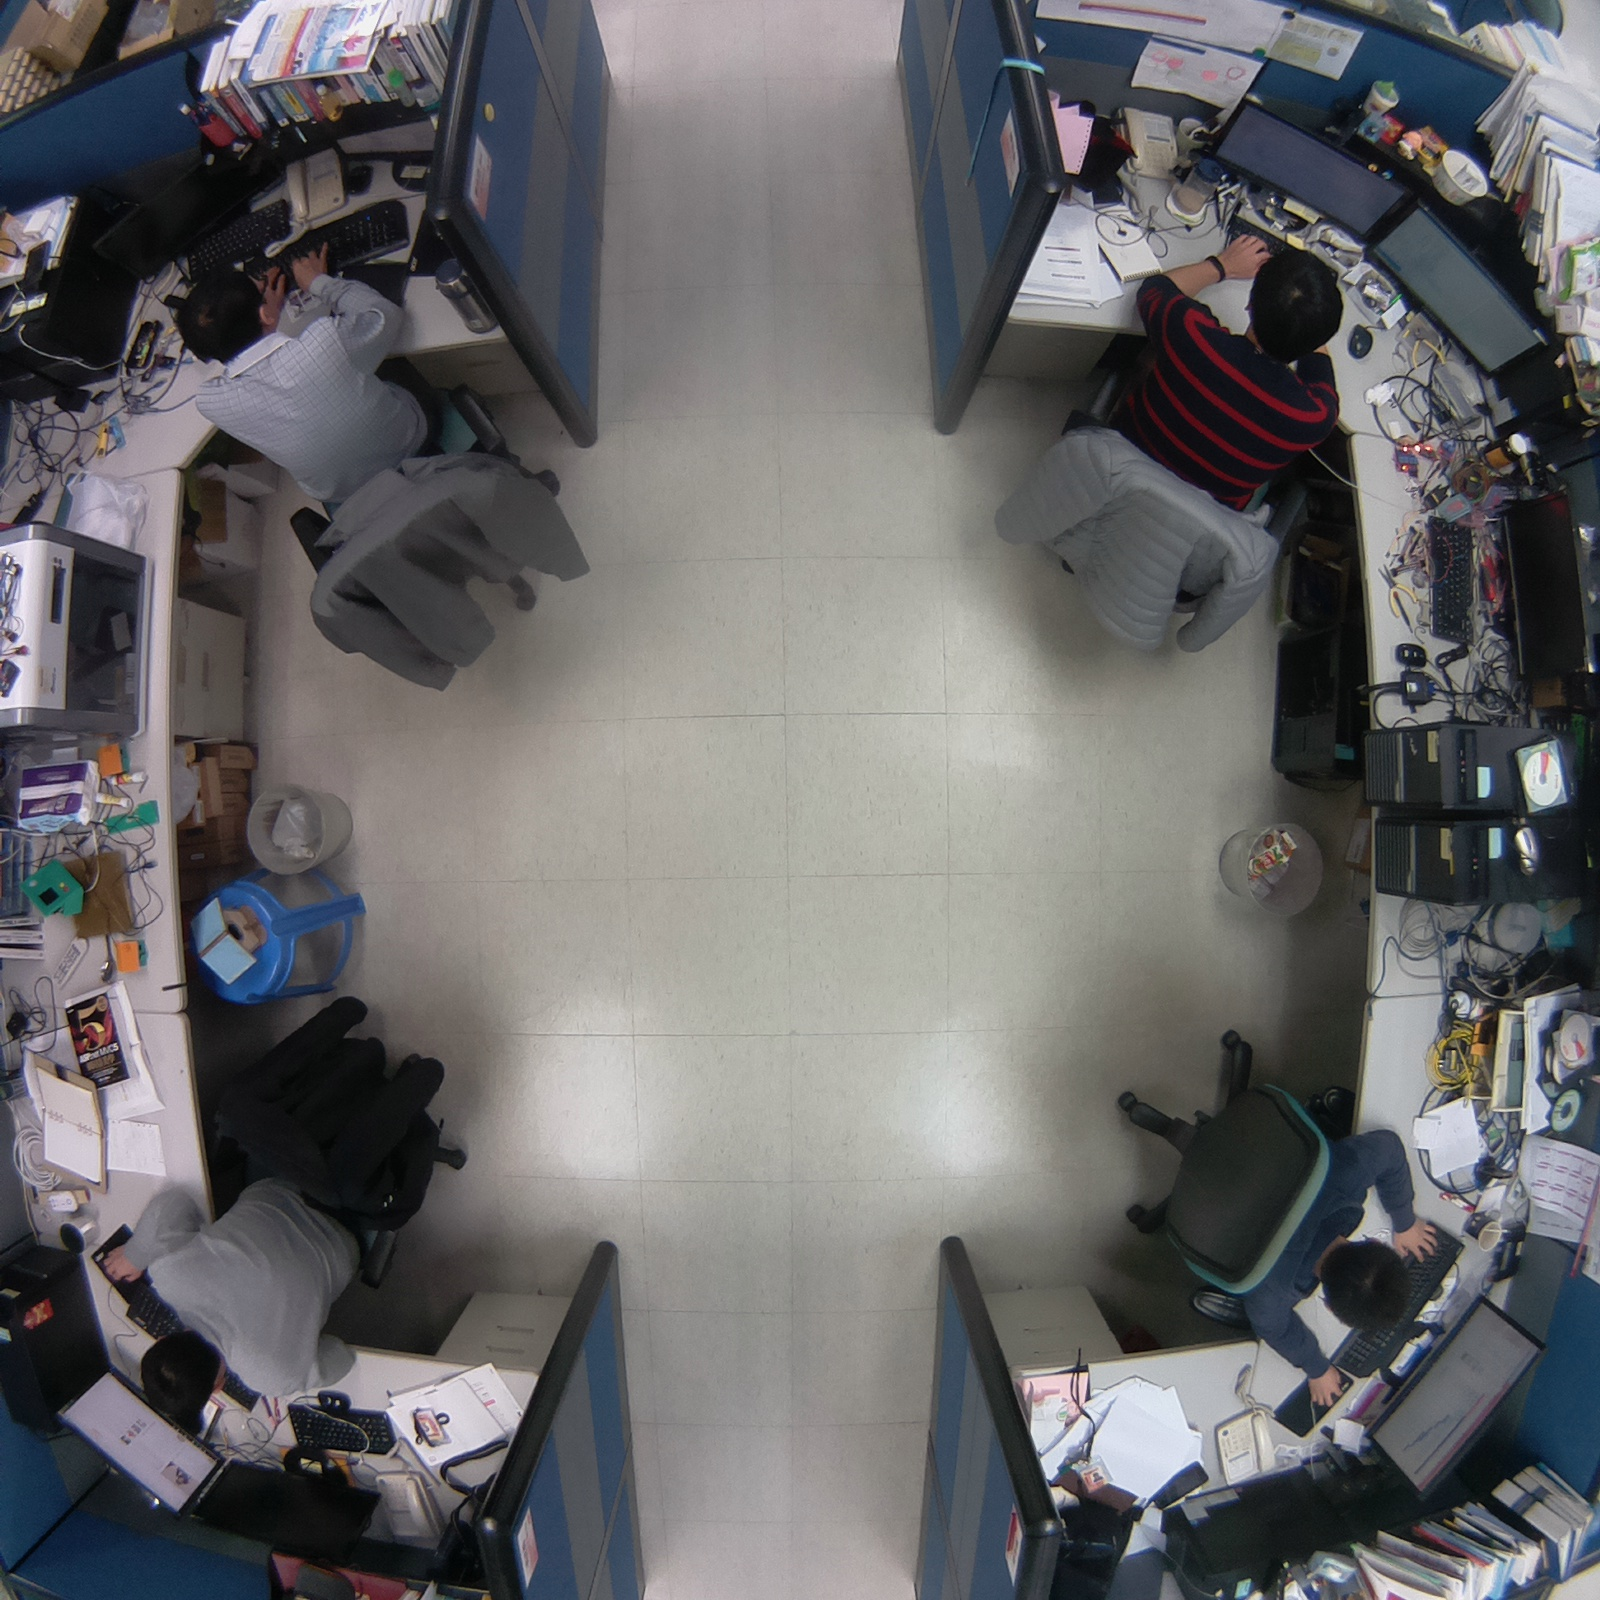head: (1240, 246, 1351, 359), (1308, 1236, 1419, 1338), (170, 265, 280, 365), (138, 1327, 236, 1429)
sitting: (165, 252, 599, 701), (129, 958, 494, 1445), (973, 240, 1353, 668), (1083, 1011, 1427, 1417)
